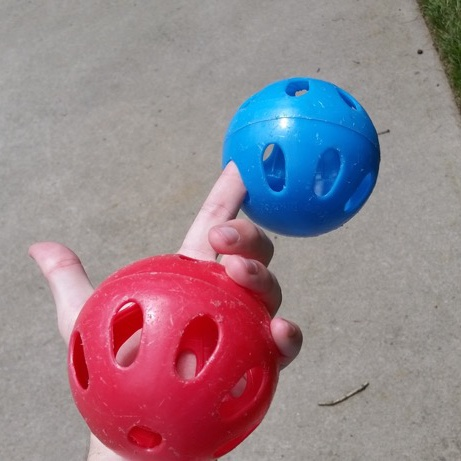blueball: (217, 71, 385, 242)
redball: (63, 248, 284, 461)
